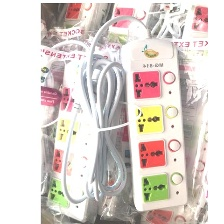three_eye_plug: (43, 51, 119, 224), (120, 32, 192, 214)
